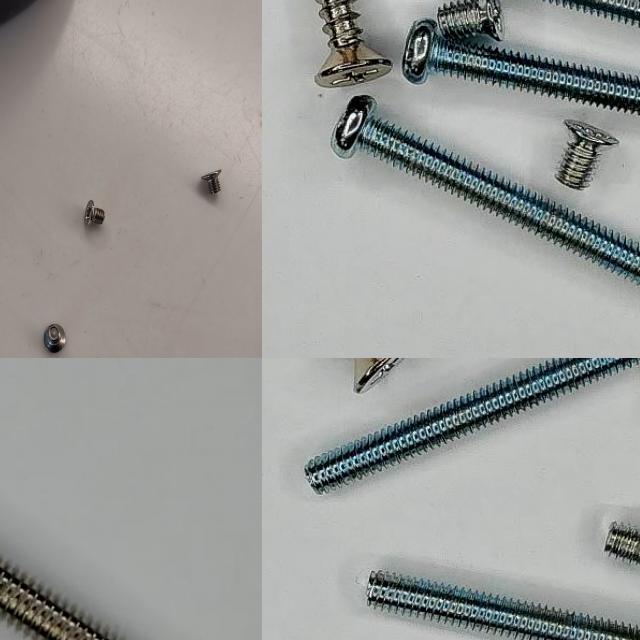Screw: (331, 97, 640, 286), (305, 358, 640, 493), (402, 20, 640, 115), (367, 572, 640, 640), (315, 0, 392, 88), (556, 121, 620, 190), (438, 0, 505, 41), (605, 524, 640, 566), (41, 319, 69, 356), (80, 197, 110, 229), (198, 166, 226, 197)
